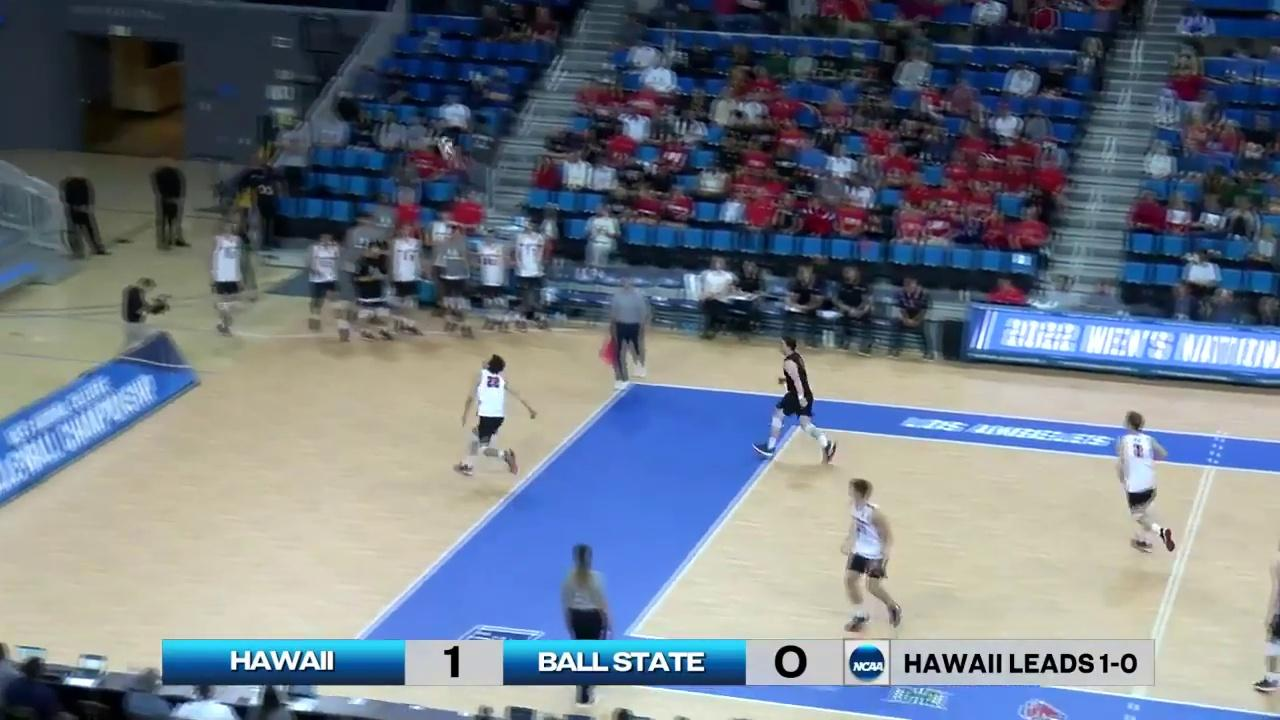player: (756, 336, 839, 464), (838, 479, 904, 629), (456, 356, 533, 479), (1119, 413, 1175, 554)
refree: (562, 543, 613, 706), (605, 274, 649, 390)
